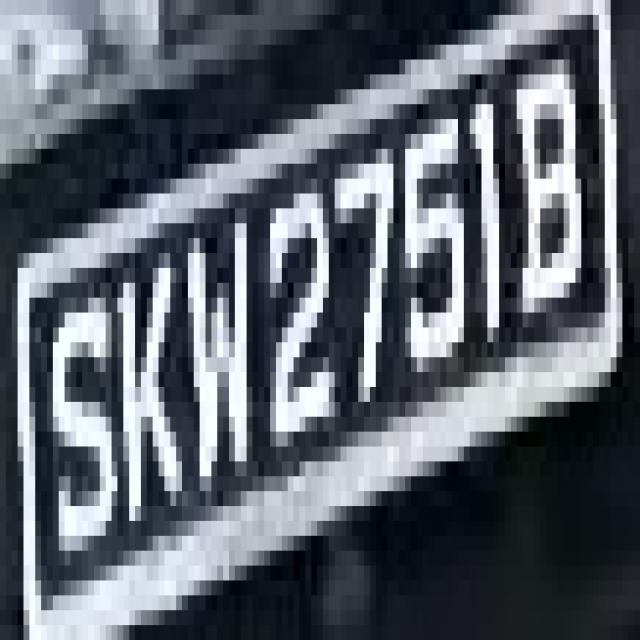1: (452, 15, 511, 417)
2: (247, 164, 341, 476)
5: (393, 104, 470, 387)
7: (311, 134, 405, 476)
B: (505, 15, 605, 357)
K: (106, 238, 176, 506)
S: (36, 224, 118, 596)
W: (170, 194, 252, 491)
